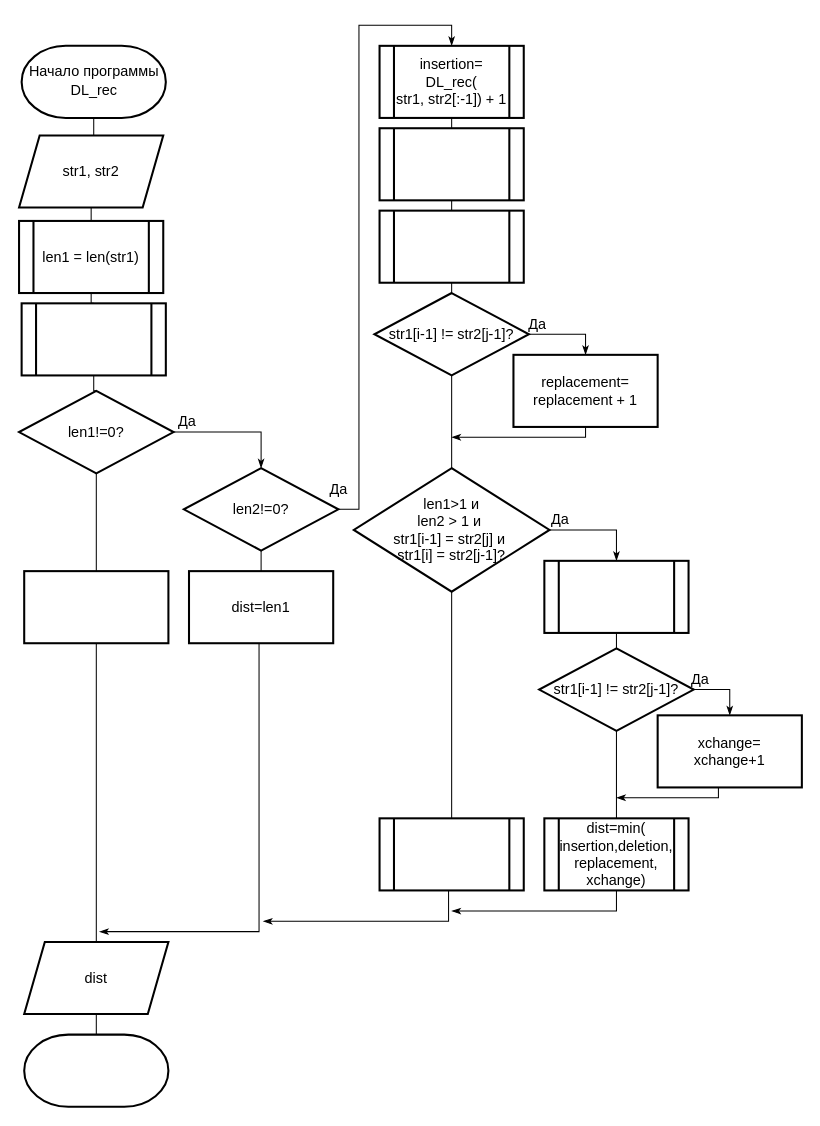
This 820x1126 diagram has some shape labels left out. The shapes that lost their labels are listed below. From the top down, each one's centre as x and y in pixels, then its label:
[451,164]: deletion= DL_rec( str1[:-1], str2) + 1
[451,246]: replacement= DL_rec( str1[:-1], str2[:-1])
[93,339]: len2 = len(str2)
[96,607]: dist=len2
[616,596]: xchange= DL_rec( str1[:-2], str2[:-2])
[451,854]: dist= min(insertion, deletion, replacement)
[96,1070]: Конец программы lowen_rec
